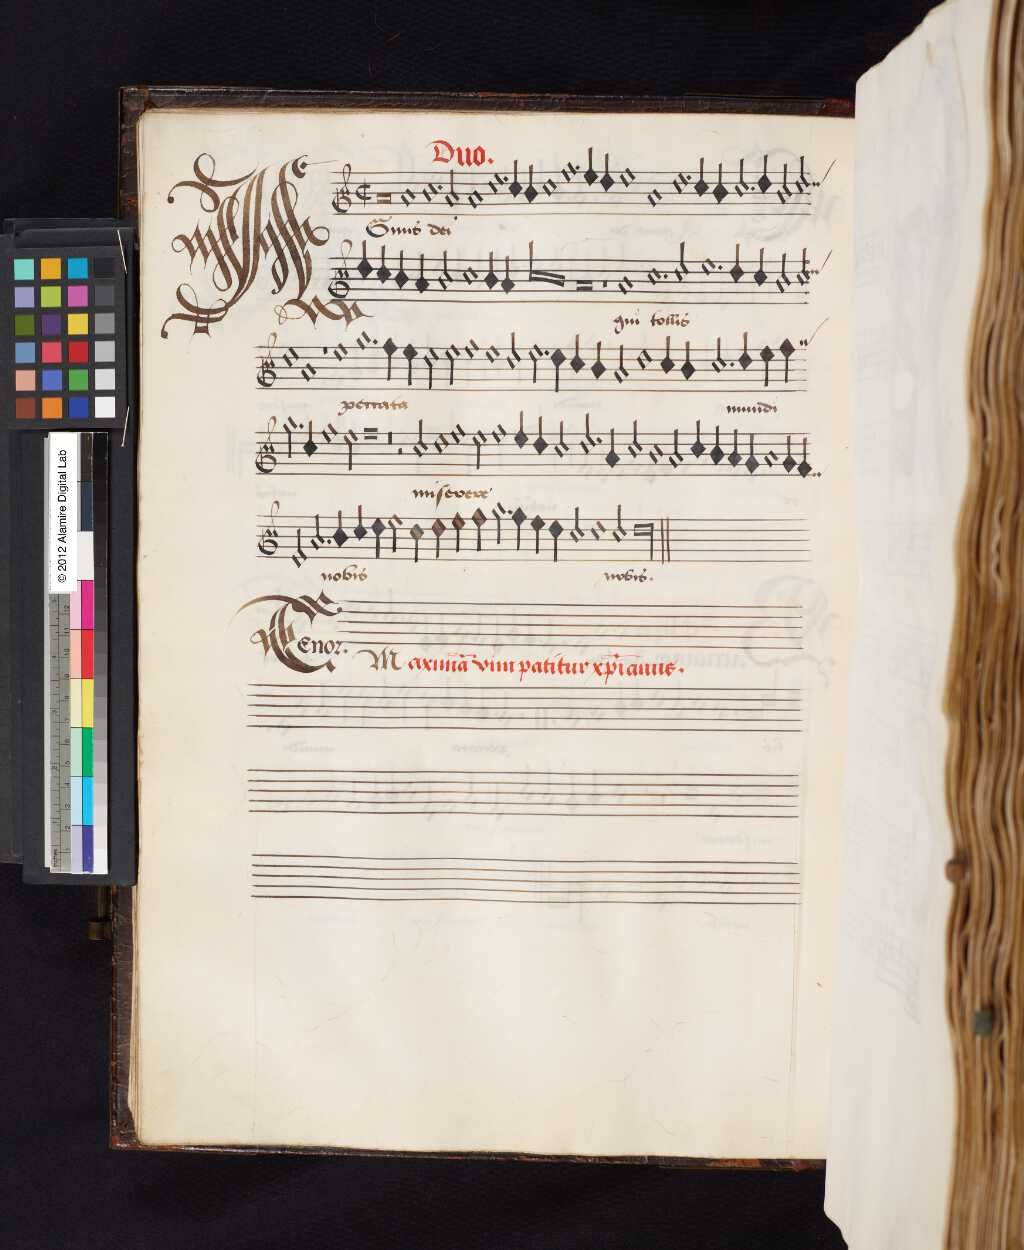breve_8: (571, 270, 597, 302)
custos_5: (809, 243, 829, 287)
g clef_9: (326, 248, 353, 306)
minim_5: (671, 232, 691, 289)
minim_6: (794, 238, 812, 292)
minim_7: (773, 241, 793, 300), (435, 240, 455, 296)
o1semibreve_6: (522, 233, 546, 300)
o2semibreve_7: (546, 233, 570, 300)
point: (711, 254, 726, 277), (658, 265, 671, 284)
semibreve rest: (596, 249, 611, 310)
semibreve_4: (697, 246, 718, 287)
semibreve_6: (458, 254, 481, 294), (644, 256, 664, 295)
semibreve_8: (613, 265, 637, 305)
semiminim_5: (727, 237, 747, 292), (356, 235, 374, 287)
semiminim_6: (752, 239, 770, 295), (376, 240, 393, 291)
semiminim_7: (394, 243, 411, 297), (484, 244, 500, 298)
semiminim_8: (413, 245, 430, 301), (498, 254, 511, 300)
